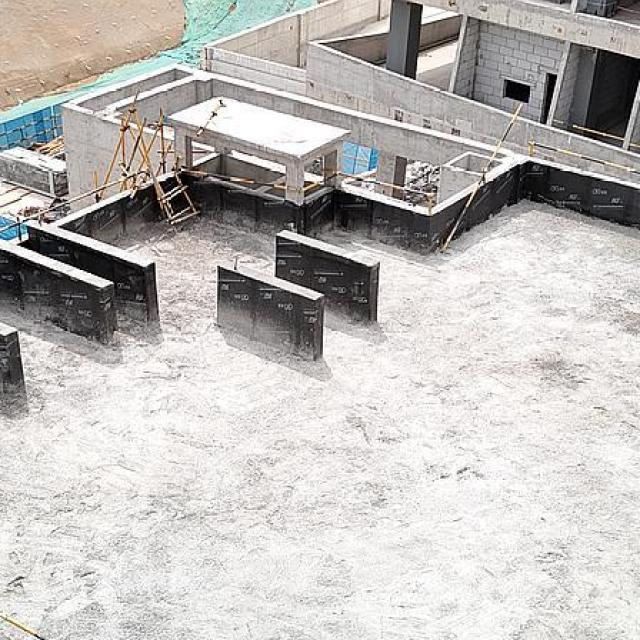Guardrail: (439, 103, 525, 254), (180, 166, 436, 215), (0, 168, 147, 241), (527, 136, 640, 175), (552, 117, 625, 142), (615, 5, 640, 15), (628, 142, 640, 147)
